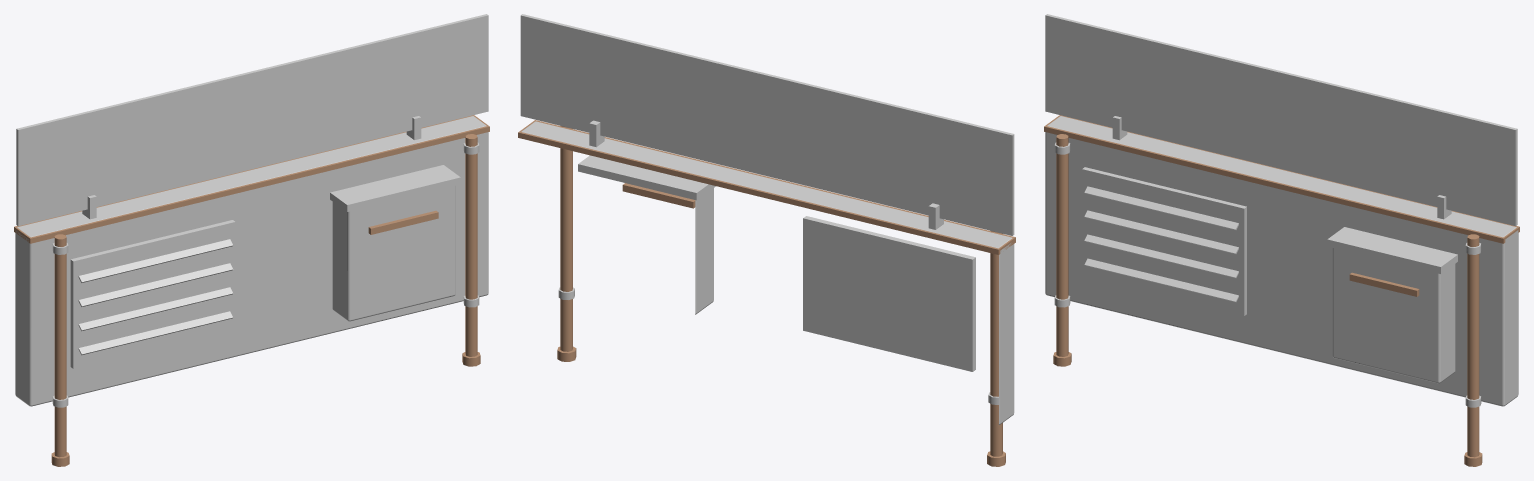
The model's file is ServicePanel.glb.
3 renders of one model, left to right at view 1: azimuth 30°, elevation 25°; view 2: azimuth 150°, elevation 25°; view 3: azimuth 330°, elevation 25°, orthographic. The views are drawn at different scales.
Visible parts, largest first — view 1: Body, Trim, Glow; view 2: Body, Trim, Glow; view 3: Body, Trim, Glow.
Boxes of the visible parts, x1,y1,x2,y2 form: Body: [15, 14, 488, 407]; Trim: [14, 115, 489, 466]; Glow: [368, 210, 438, 234]; Body: [520, 14, 1014, 424]; Trim: [518, 120, 1015, 466]; Glow: [622, 183, 695, 208]; Body: [1045, 14, 1518, 407]; Trim: [1044, 115, 1519, 466]; Glow: [1349, 272, 1419, 296].
Size of the model in its own units: 17.4 by 11.7 by 2.18.
